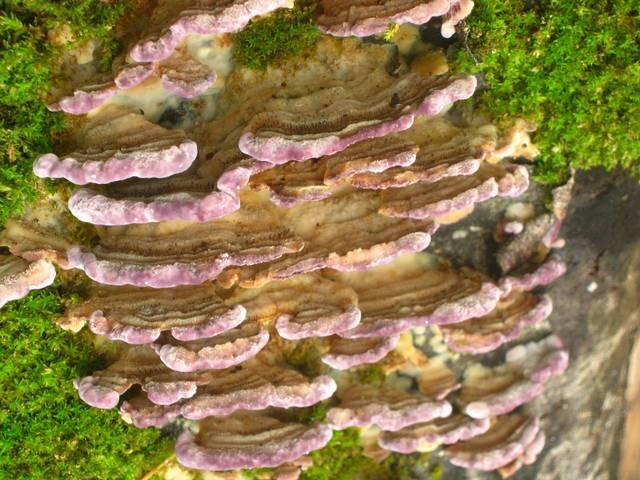Non-edible Mushroom: (1, 0, 573, 479)
